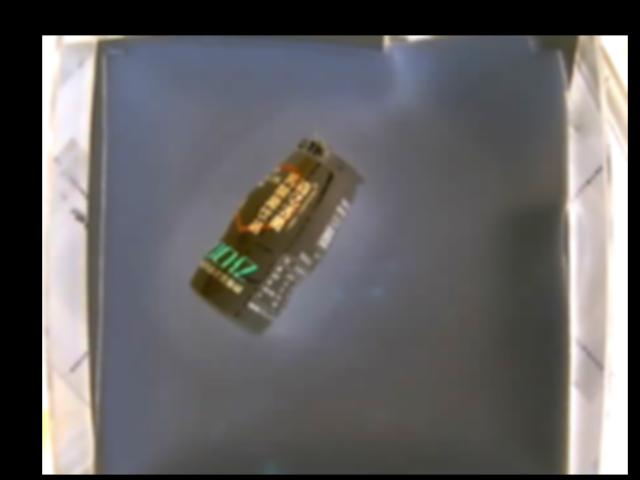Bottle: (187, 135, 364, 336)
